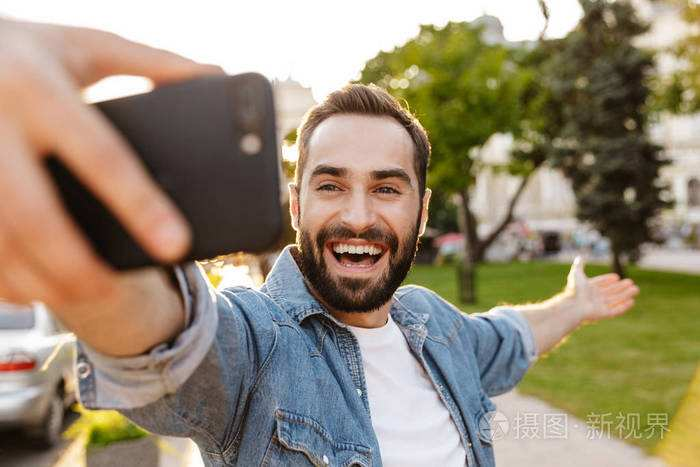taking photos: (2, 10, 291, 306)
